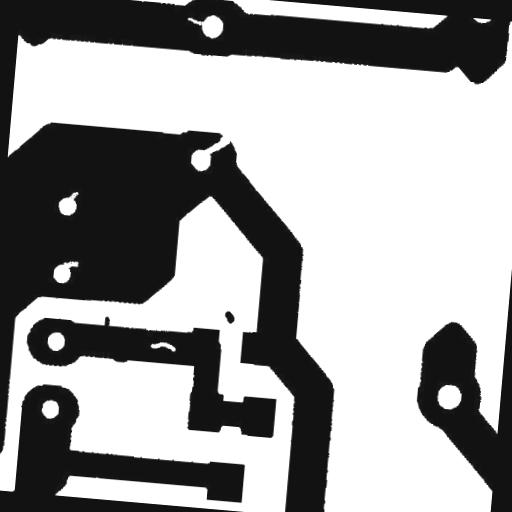copper: (216, 302, 243, 332)
mousebite: (178, 10, 217, 36), (54, 252, 86, 276), (60, 183, 86, 210)
open: (192, 125, 238, 169)
pin-hole: (142, 333, 184, 359)
spur: (95, 308, 118, 338)
